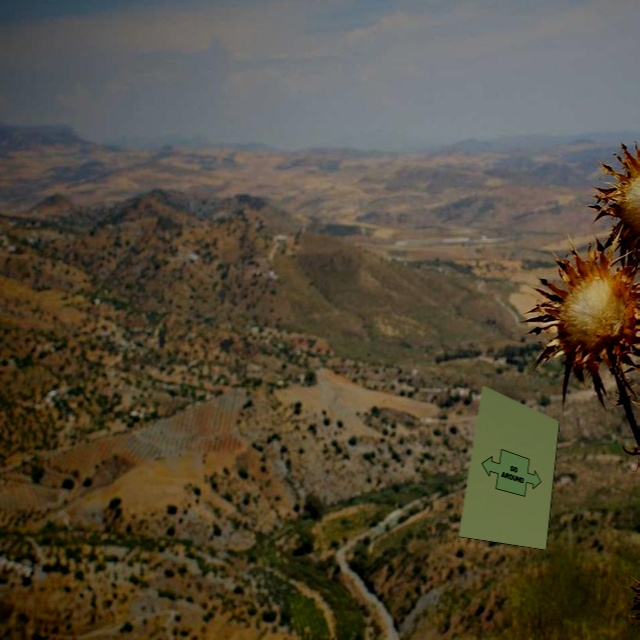GO_AROUND: (473, 443, 552, 500)
